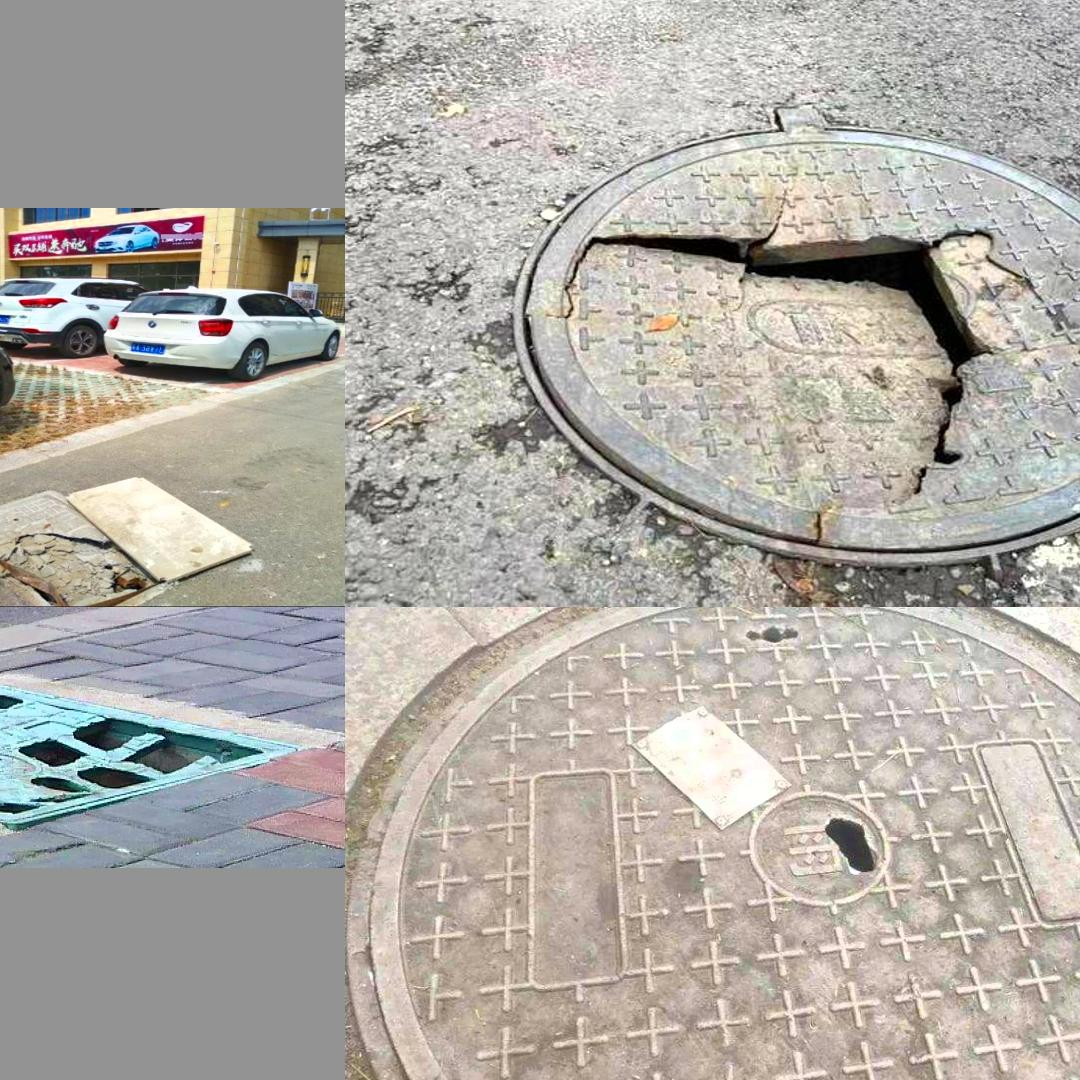broke: (348, 609, 1080, 1080), (496, 107, 1080, 580), (0, 671, 302, 832), (0, 486, 263, 607)
